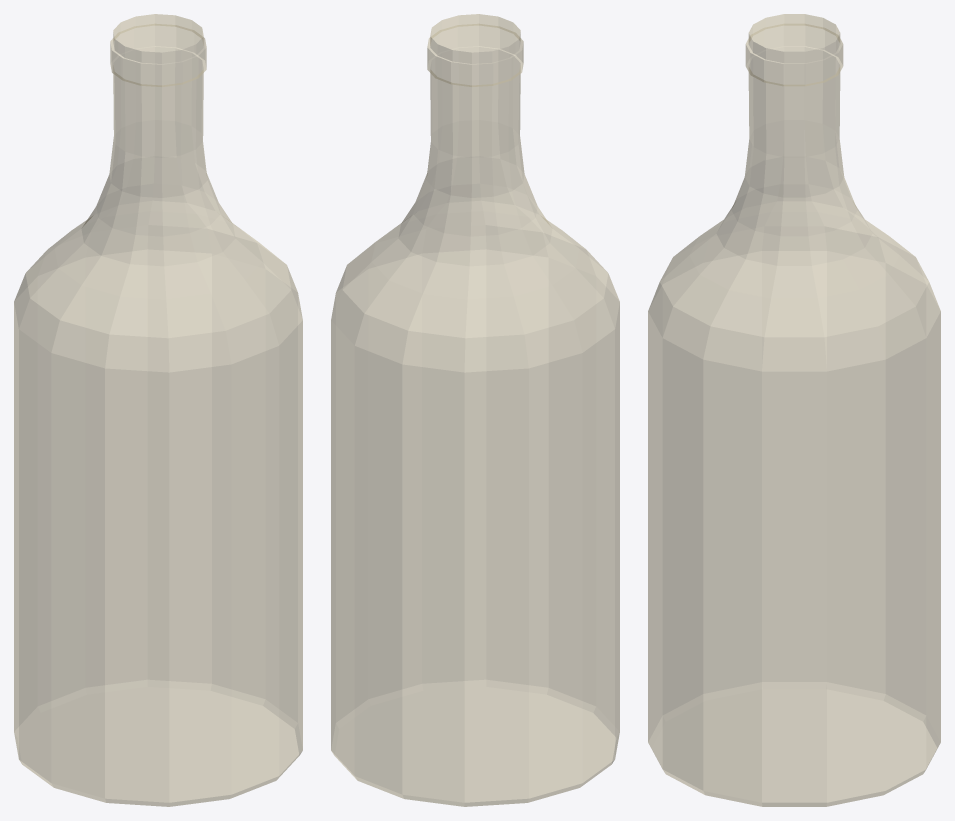
The model's file is Bottle_B_Alt.fbx.
3 views of the same model, side by side, from view 1: azimuth 30°, elevation 25°; view 2: azimuth 150°, elevation 25°; view 3: azimuth 270°, elevation 25° (orthographic).
Parts seen in each view (by area): view 1: Bottle_B_Alt; view 2: Bottle_B_Alt; view 3: Bottle_B_Alt.
Part boxes in pixels (x1,y1,x2,y2): Bottle_B_Alt: (14, 14, 302, 806); Bottle_B_Alt: (331, 14, 619, 806); Bottle_B_Alt: (648, 14, 940, 806).
Size of the model in its own units: 441 by 1219 by 452.
